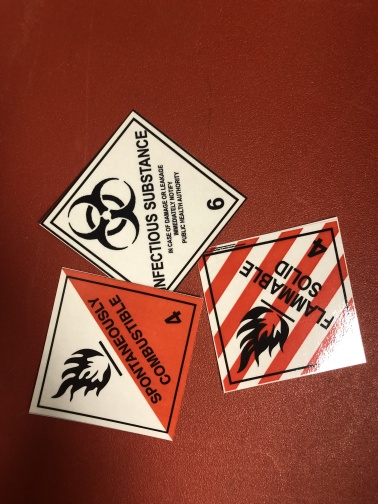FlammableSolid: (197, 217, 367, 393)
InfectiousSubstance: (38, 109, 247, 293)
SpontaneouslyCombustible: (29, 268, 203, 442)
